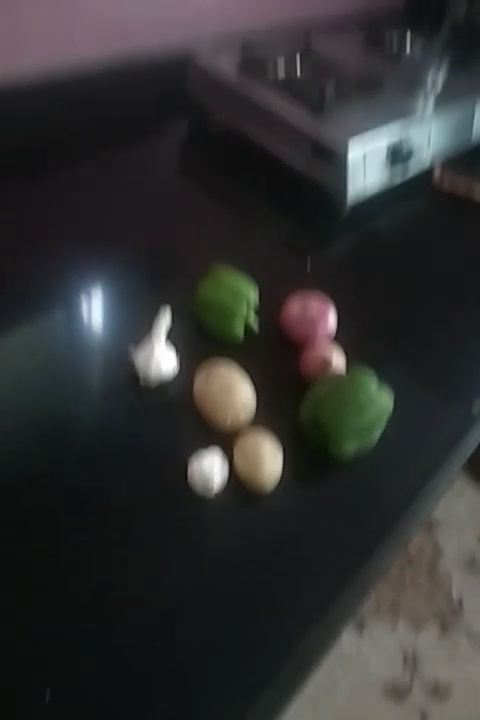capsicum: (301, 370, 398, 471), (187, 259, 261, 344)
garlic: (133, 309, 184, 390), (185, 438, 231, 500)
onion: (281, 283, 340, 344), (295, 346, 347, 380)
potato: (193, 356, 259, 433), (233, 427, 291, 496)
